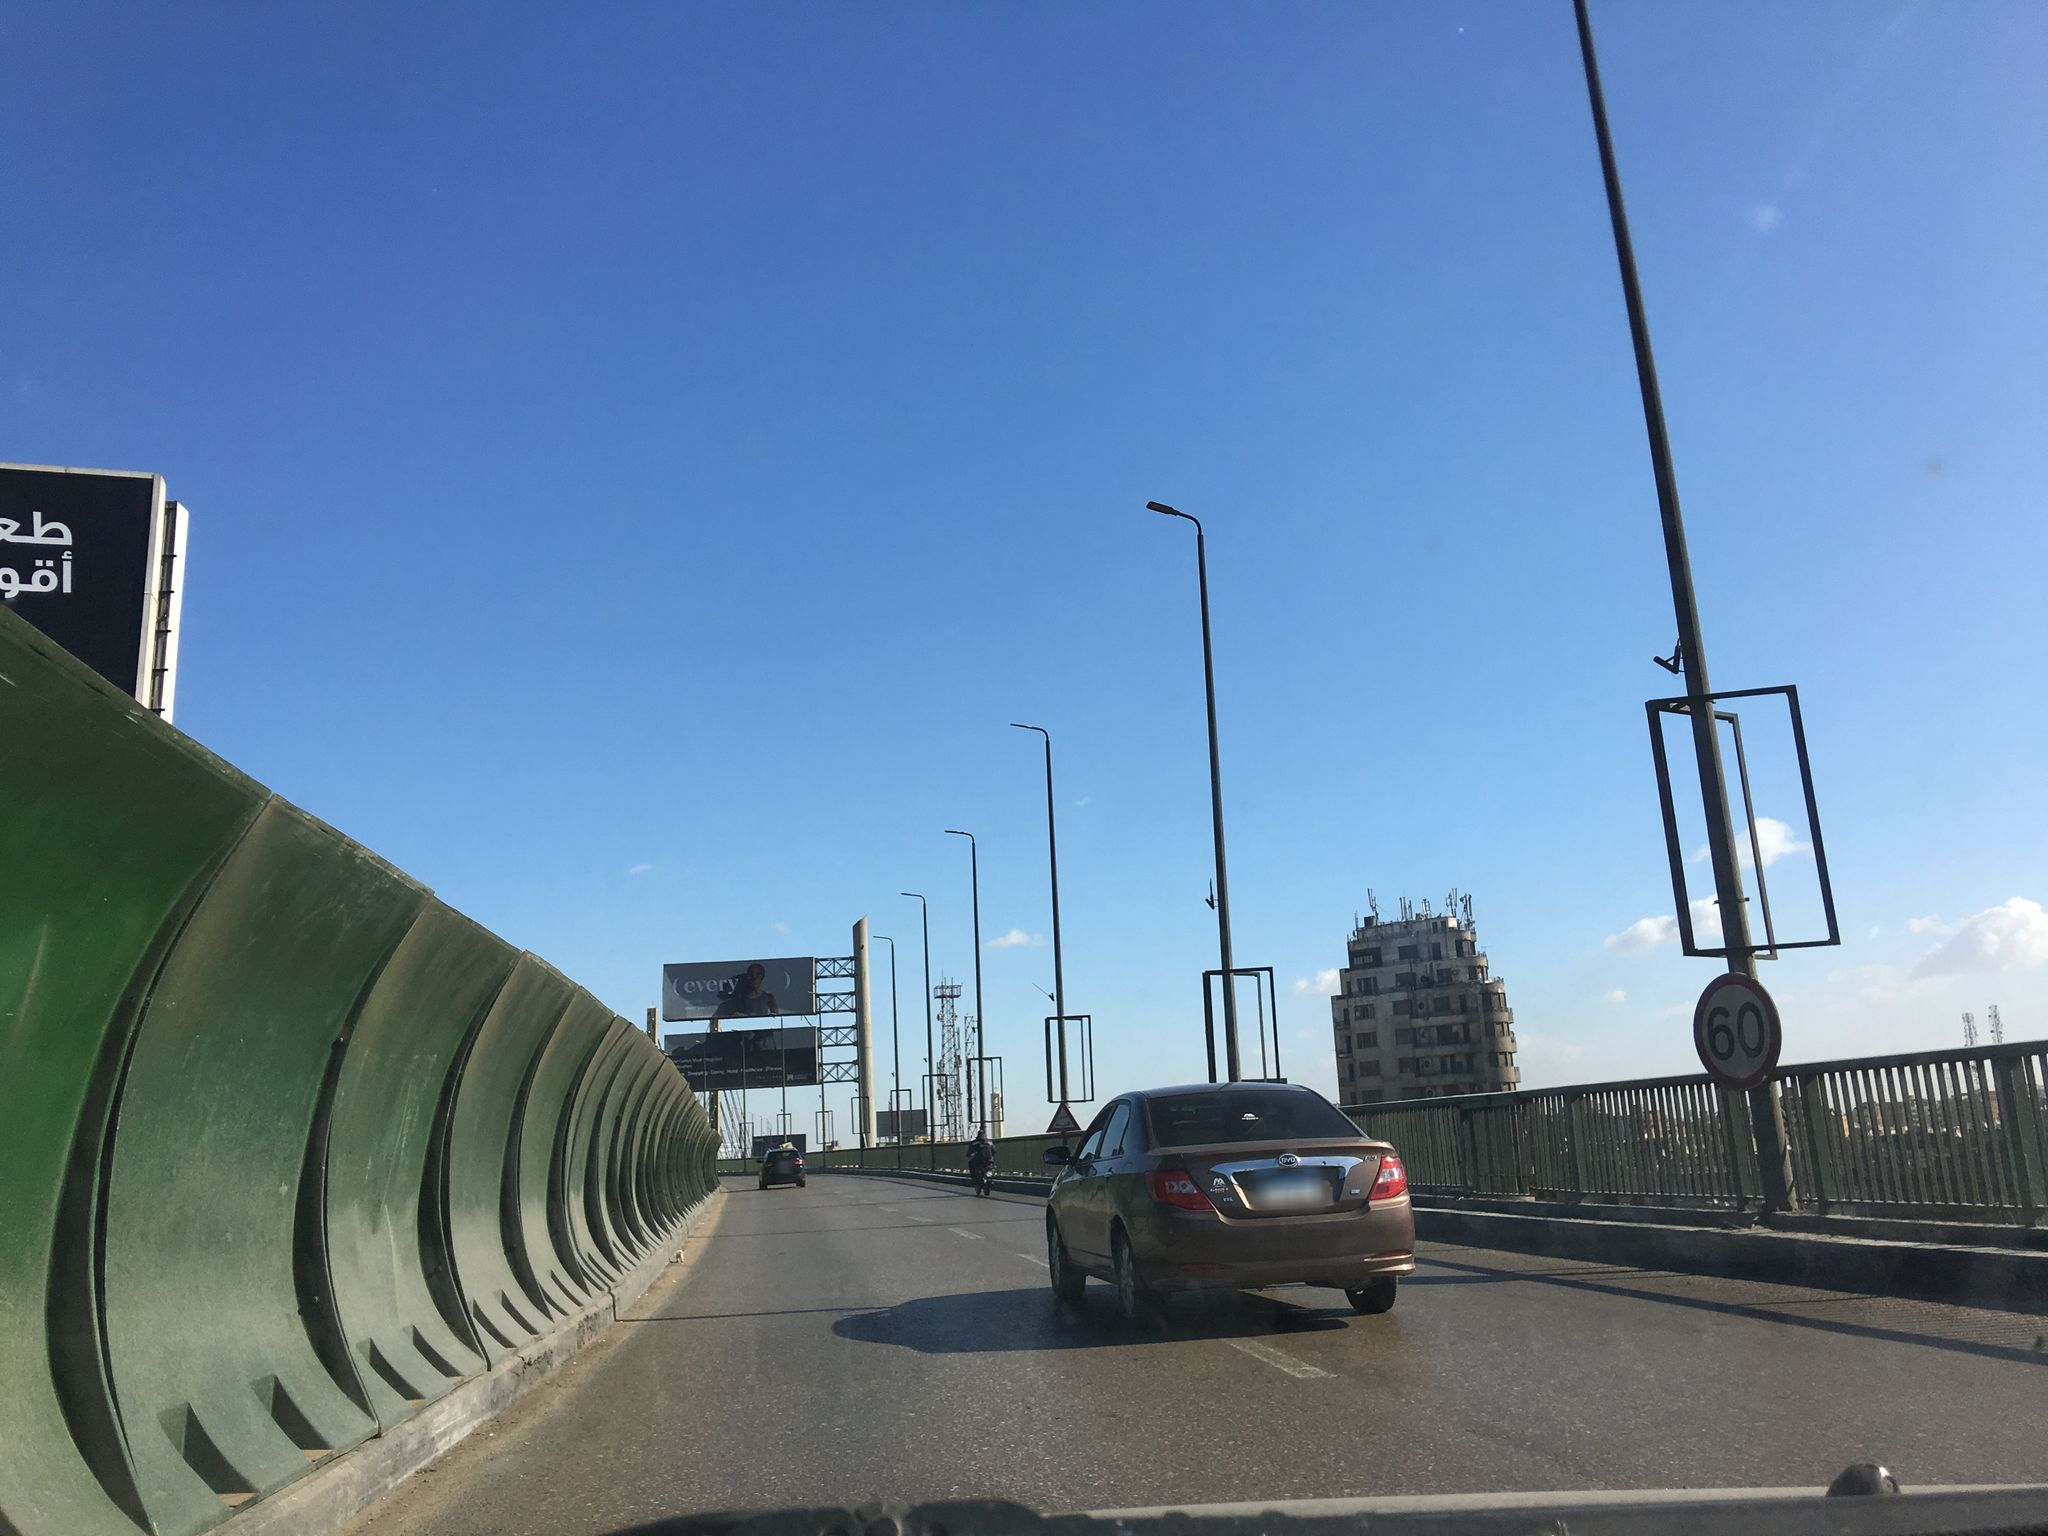car: (1035, 1079, 1421, 1317), (755, 1147, 808, 1187)
motorcycle: (966, 1150, 998, 1197)
